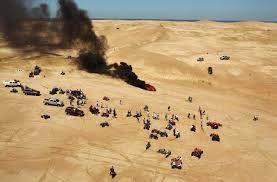smoke: (1, 1, 89, 43), (81, 50, 105, 72), (115, 65, 133, 78)
